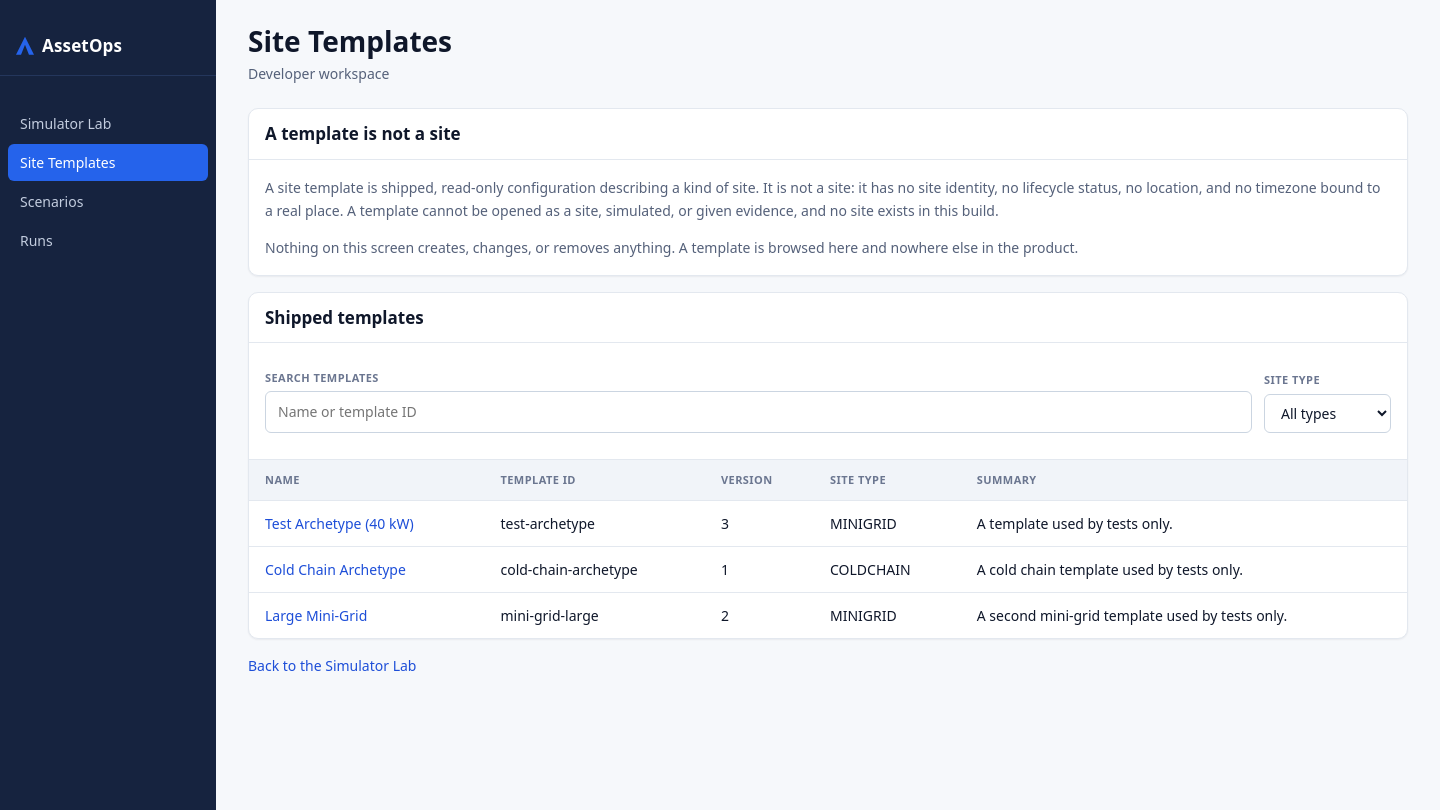
the catalog filters over the records it actually has › says an empty result is about the filter, never about what ships
Type "no-such-template" into the search field at (758,412), box [265,391,1252,432]
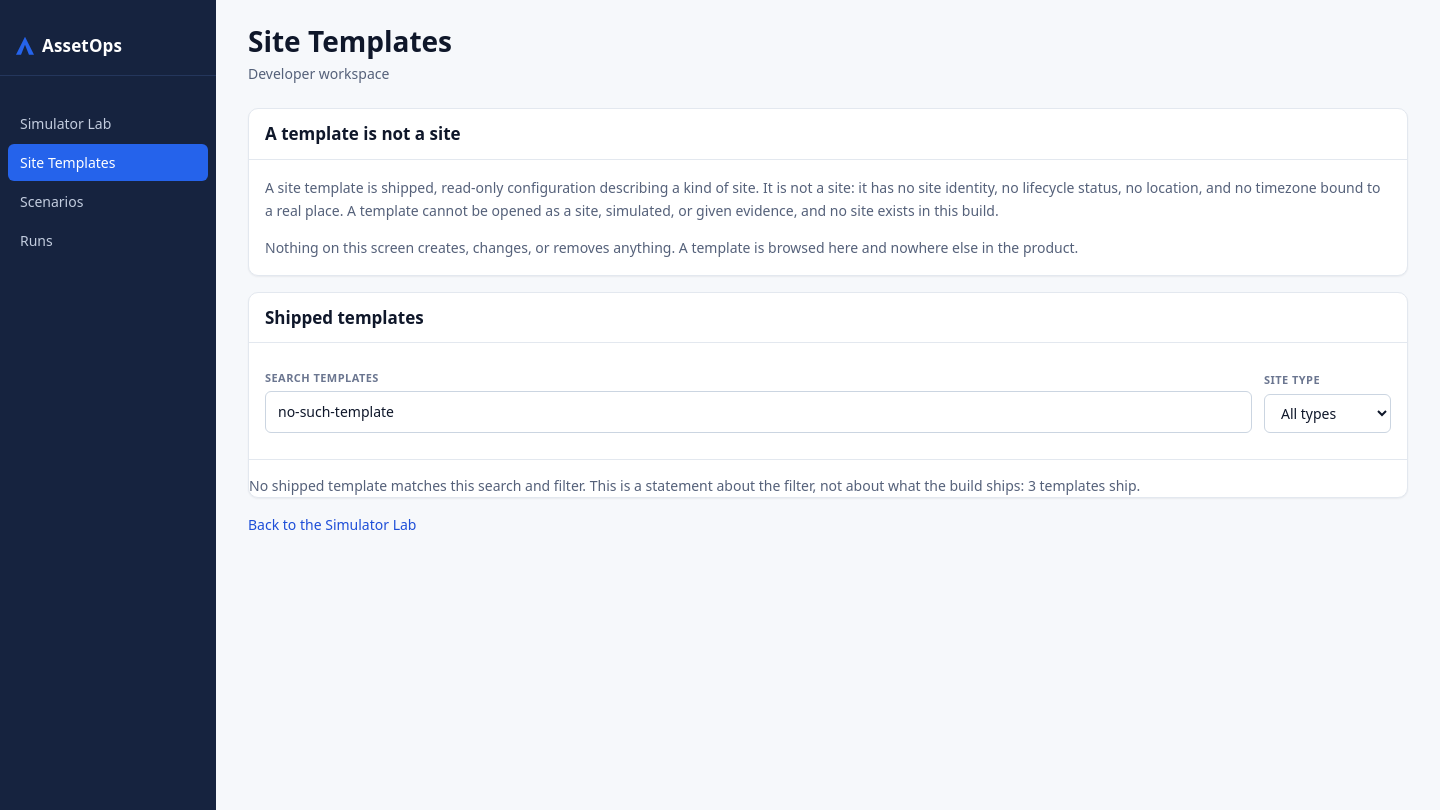
Now the table is gone
